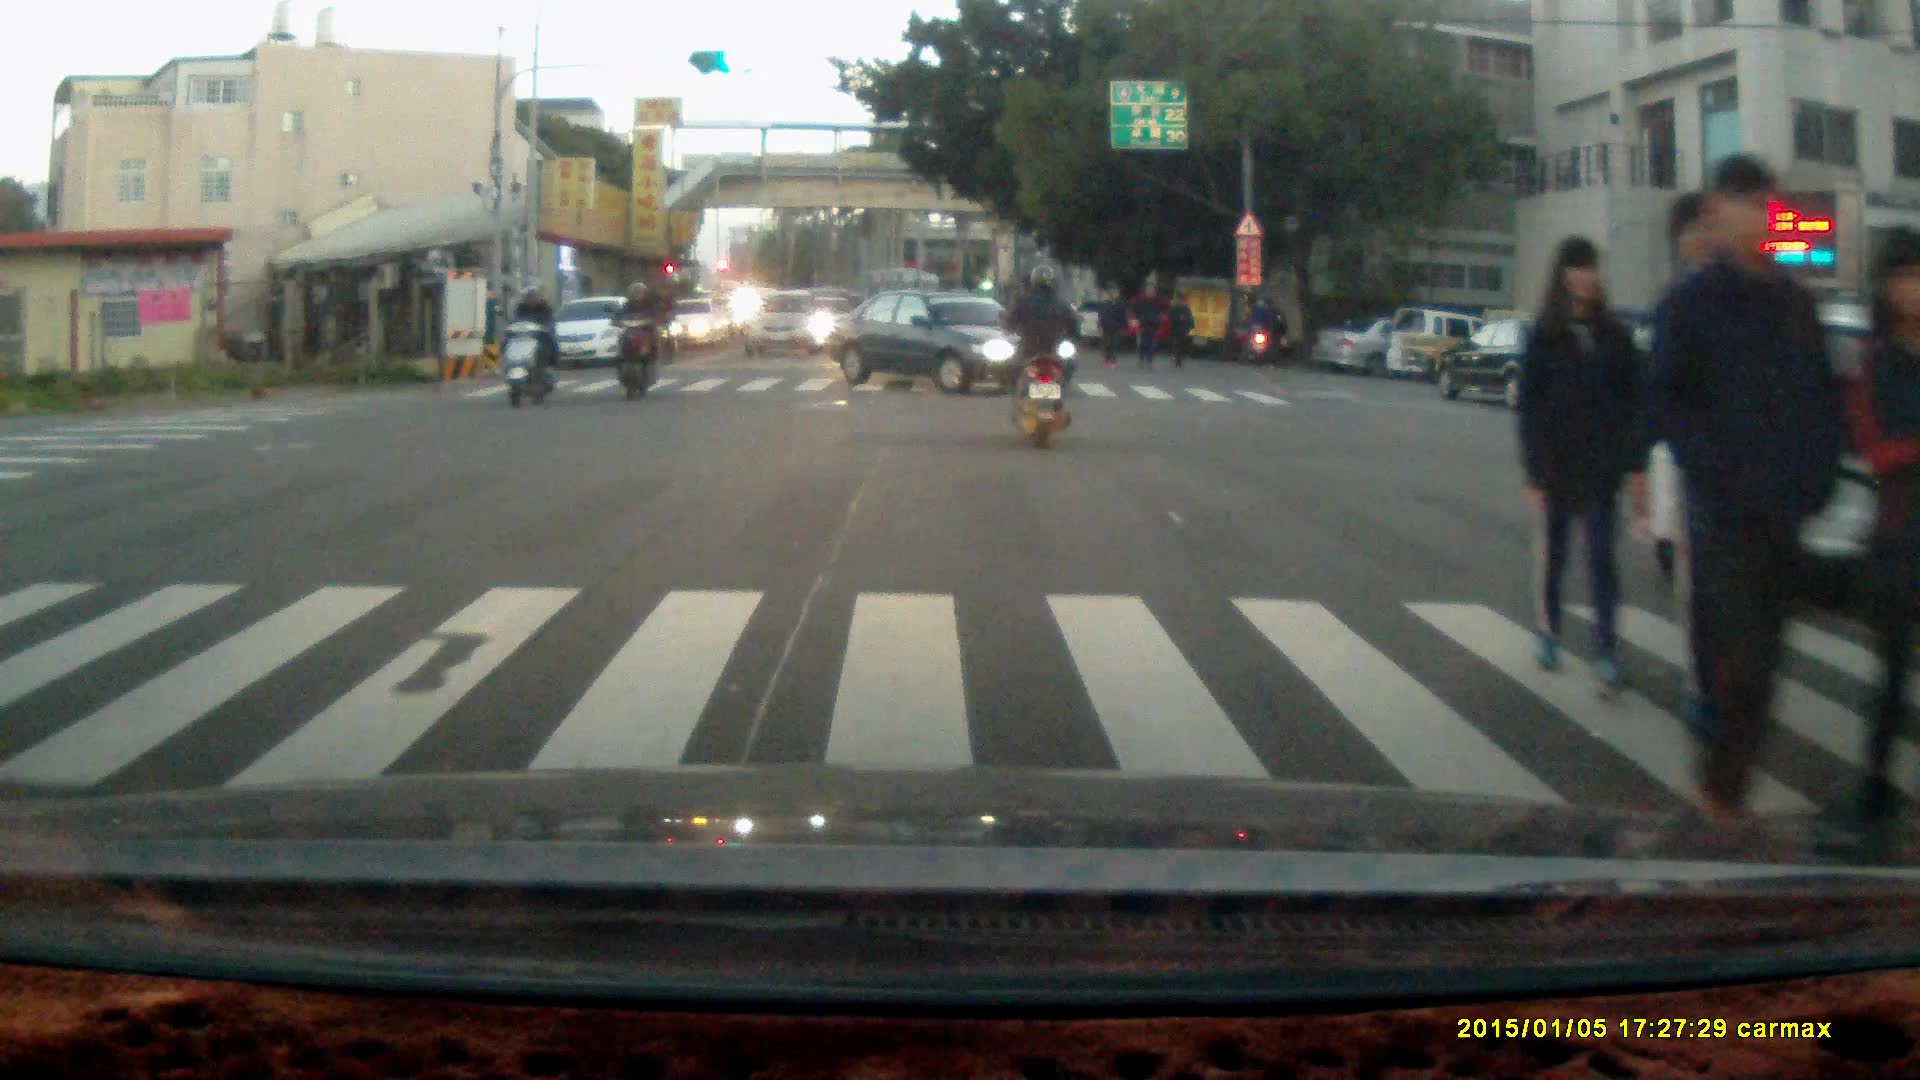pedestrian: (1641, 153, 1842, 857), (1511, 229, 1651, 707), (1838, 226, 1920, 822), (1130, 280, 1163, 377), (1161, 287, 1193, 376), (1095, 284, 1125, 366), (1255, 290, 1286, 367)
rider: (1001, 259, 1083, 449), (498, 278, 559, 407), (604, 277, 664, 402), (1236, 299, 1274, 364)
vehicle: (820, 282, 1080, 397), (1434, 313, 1581, 409), (1316, 309, 1489, 382), (541, 295, 652, 369), (747, 291, 830, 359)
